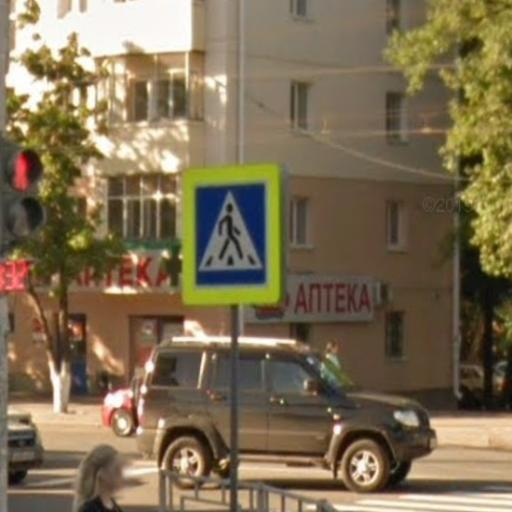traffic_sign: (178, 166, 281, 309)
